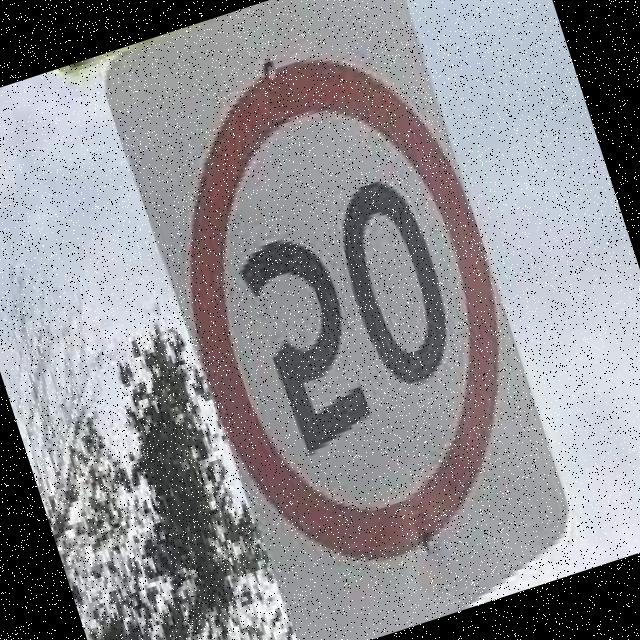speed_limit_50: (121, 0, 576, 607)
